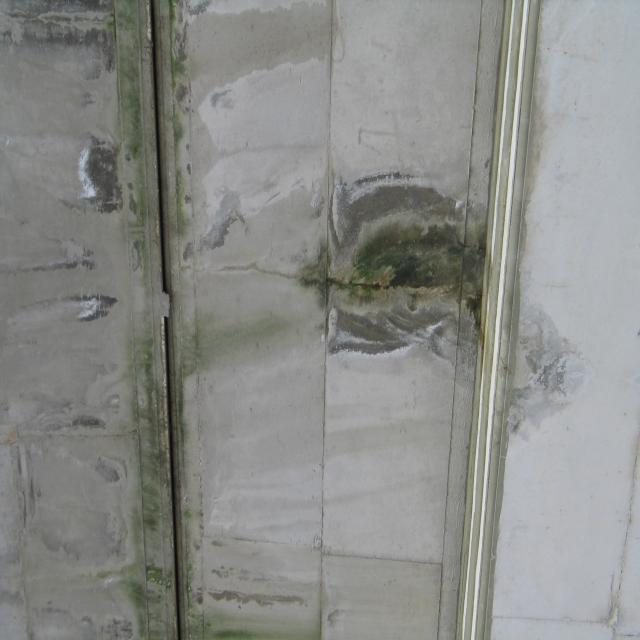corrosion: (333, 269, 442, 297)
